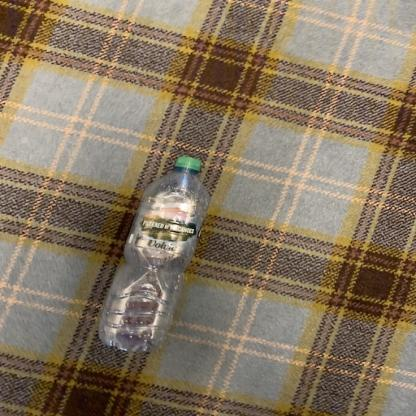trash: (101, 155, 213, 356)
